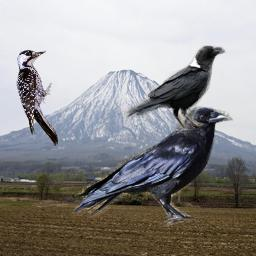Crow: (71, 103, 233, 228), (124, 42, 227, 132)
Woodpecker: (16, 50, 58, 146)
